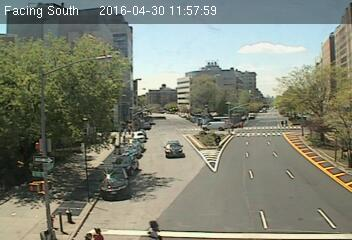neg: (290, 55, 318, 91), (34, 151, 61, 186), (281, 151, 303, 181), (202, 109, 224, 138), (150, 49, 171, 77), (35, 102, 54, 128), (93, 64, 112, 89), (234, 54, 253, 79), (235, 147, 252, 171), (97, 146, 111, 164)
pos: (146, 217, 161, 238)
